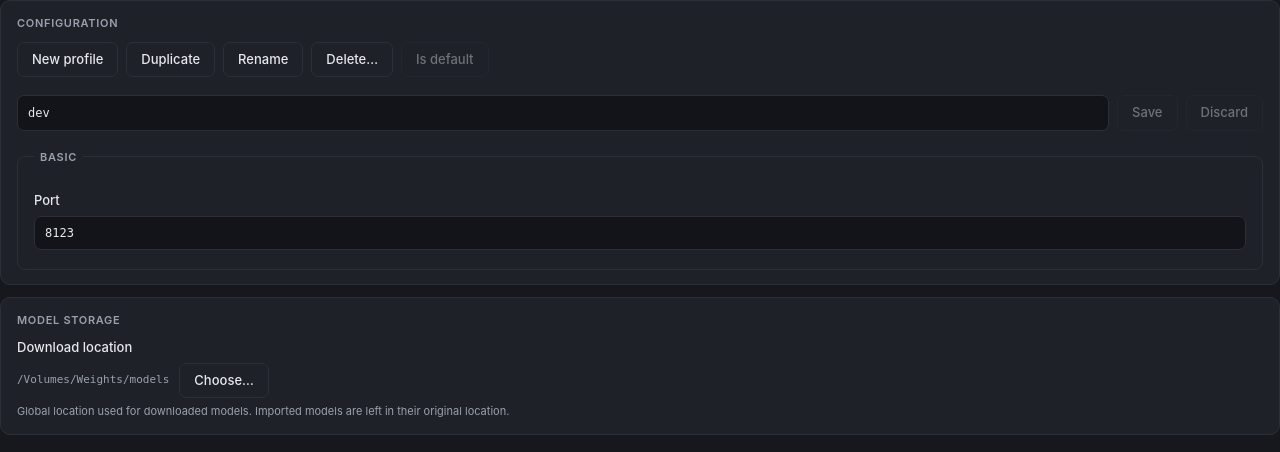
Test case: model storage › shows the new location by re-reading the setting, not its own copy
Expected: the text "/Volumes/Weights/models" is shown, top-left (17, 372), bottom-right (169, 388)
Click the button "Choose…": x=224, y=380 top-left (179, 362), bottom-right (269, 398)
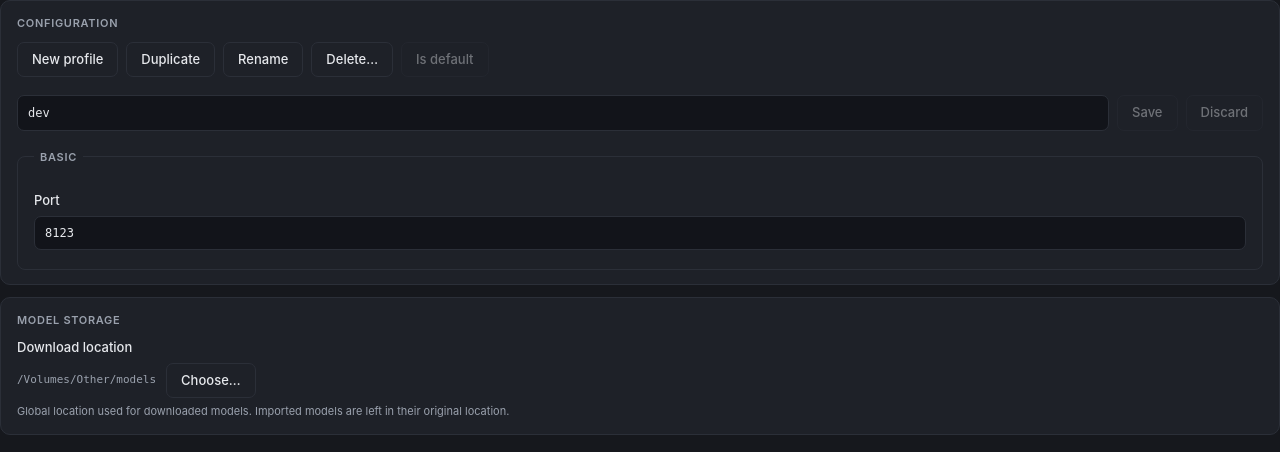
Now the text "/Volumes/Other/models" is shown, box top-left (17, 372), bottom-right (156, 388)
